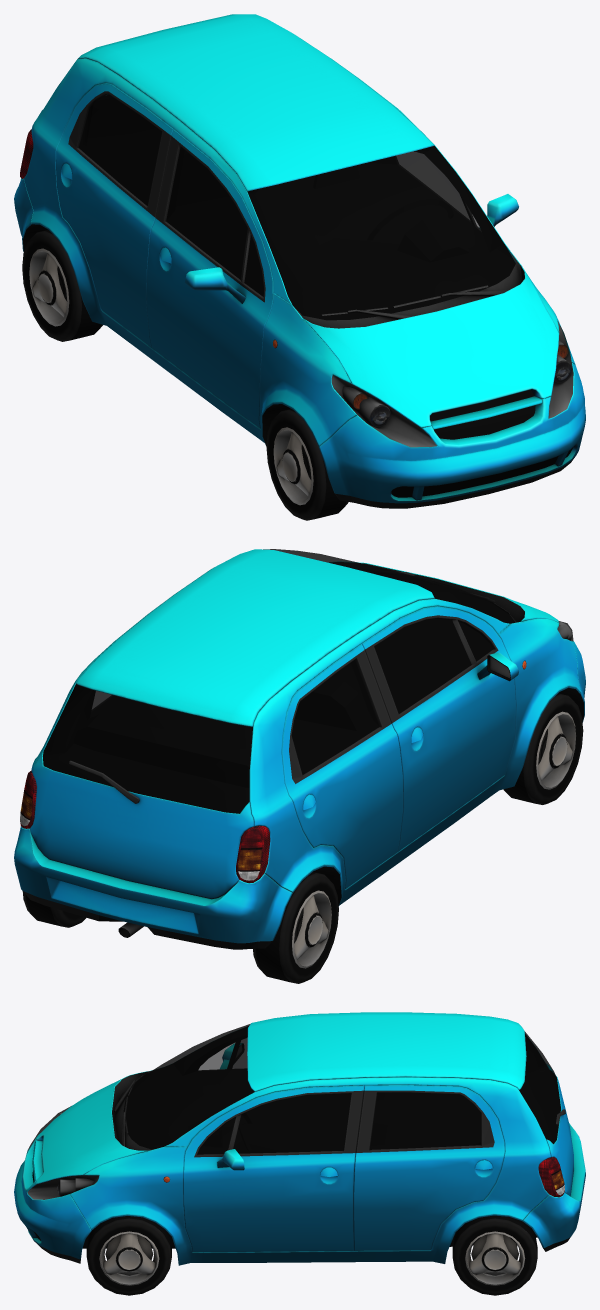
File: Compact.fbx
3 renders of one model, top to bottom at view 1: azimuth 30°, elevation 25°; view 2: azimuth 150°, elevation 25°; view 3: azimuth 270°, elevation 25°, orthographic. The views are drawn at different scales.
Visible parts, largest first — view 1: Compact, Wheel_C003_Wheel_0, Wheel_C002_Wheel_0; view 2: Compact, Wheel_C002_Wheel_0, Wheel_C003_Wheel_0, Wheel_C001_Wheel_0; view 3: Compact, Wheel_C001_Wheel_0, Wheel_C_Wheel_0.
Part boxes in pixels (x1,y1,x2,y2): Compact: (14, 14, 585, 508); Wheel_C003_Wheel_0: (266, 409, 348, 520); Wheel_C002_Wheel_0: (22, 229, 102, 341); Compact: (14, 549, 585, 949); Wheel_C002_Wheel_0: (253, 872, 338, 983); Wheel_C003_Wheel_0: (503, 693, 583, 804); Wheel_C001_Wheel_0: (22, 891, 86, 927); Compact: (14, 1012, 585, 1265); Wheel_C001_Wheel_0: (452, 1215, 537, 1295); Wheel_C_Wheel_0: (86, 1216, 171, 1295).
Bounding box in the file's own units: 161 × 132 × 326.
4 materials, 3 textured.
